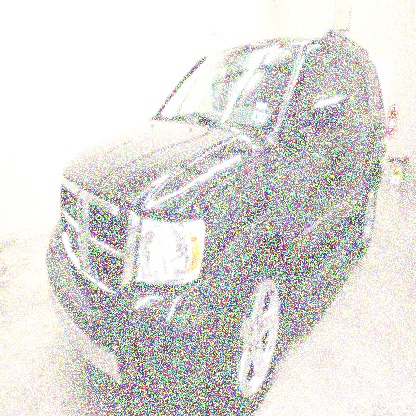Vehicle: (45, 31, 388, 415)
